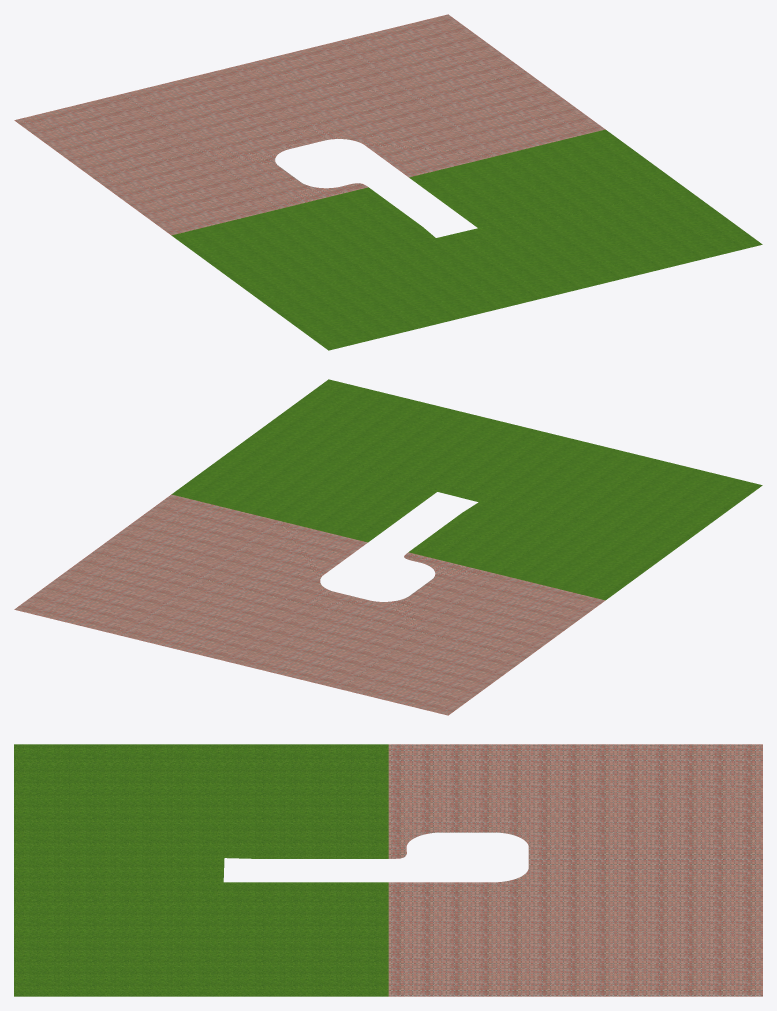
Rendered from floor.FBX.
The picture shows the model from 3 angles, top to bottom: view 1: azimuth 30°, elevation 25°; view 2: azimuth 150°, elevation 25°; view 3: azimuth 270°, elevation 25°; orthographic projection. The views are drawn at different scales.
Visible parts, largest first — view 1: Plane001; view 2: Plane001; view 3: Plane001.
Part boxes in pixels (bbox=[...]): Plane001: bbox=[14, 14, 762, 350]; Plane001: bbox=[14, 379, 762, 715]; Plane001: bbox=[14, 744, 762, 996].
Size of the model in its own units: 4293 by 1.72e-05 by 5388.
Materials: 2 (2 with a texture image).
